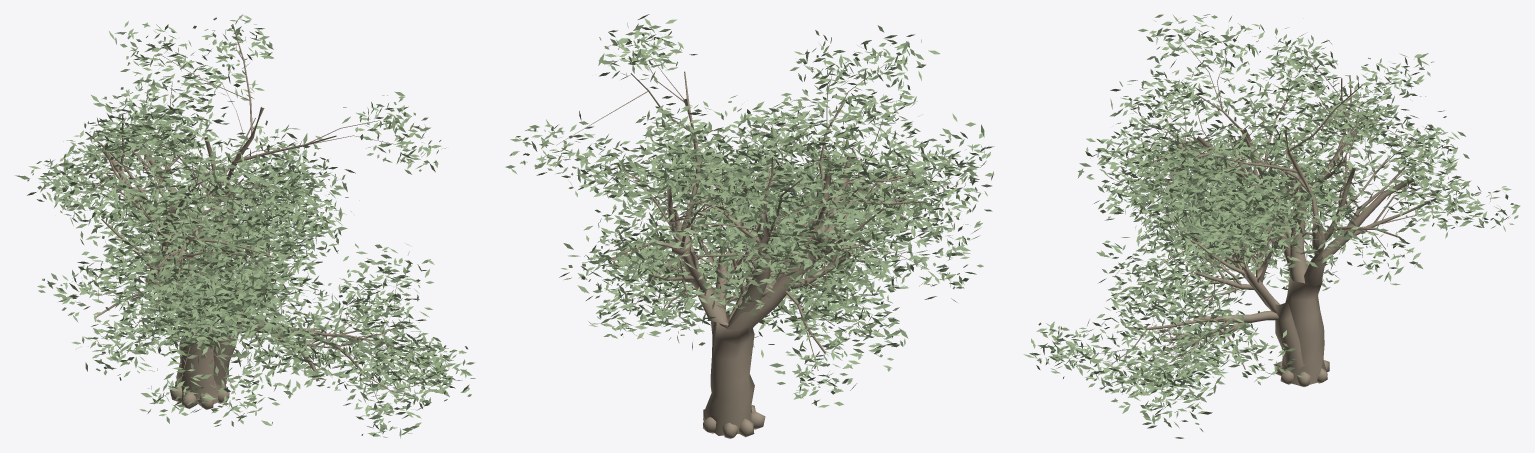
The model's file is olive.glb.
3 renders of one model, left to right at view 1: azimuth 30°, elevation 25°; view 2: azimuth 150°, elevation 25°; view 3: azimuth 270°, elevation 25°, orthographic. The views are drawn at different scales.
Parts seen in each view (by area): view 1: olive_leaves, olive_wood, olive_roots; view 2: olive_leaves, olive_wood, olive_roots; view 3: olive_leaves, olive_wood, olive_roots.
Boxes of the visible parts, box(x1,y1,x2,y2) form: olive_leaves: box(15, 14, 475, 438); olive_wood: box(72, 24, 431, 411); olive_roots: box(170, 381, 229, 409); olive_leaves: box(505, 14, 994, 407); olive_wood: box(556, 53, 952, 435); olive_roots: box(703, 405, 765, 438); olive_leaves: box(1023, 14, 1520, 438); olive_wood: box(1074, 42, 1476, 390); olive_roots: box(1274, 360, 1329, 386).
Bounding box in the file's own units: 5.8 × 5.51 × 7.56.
